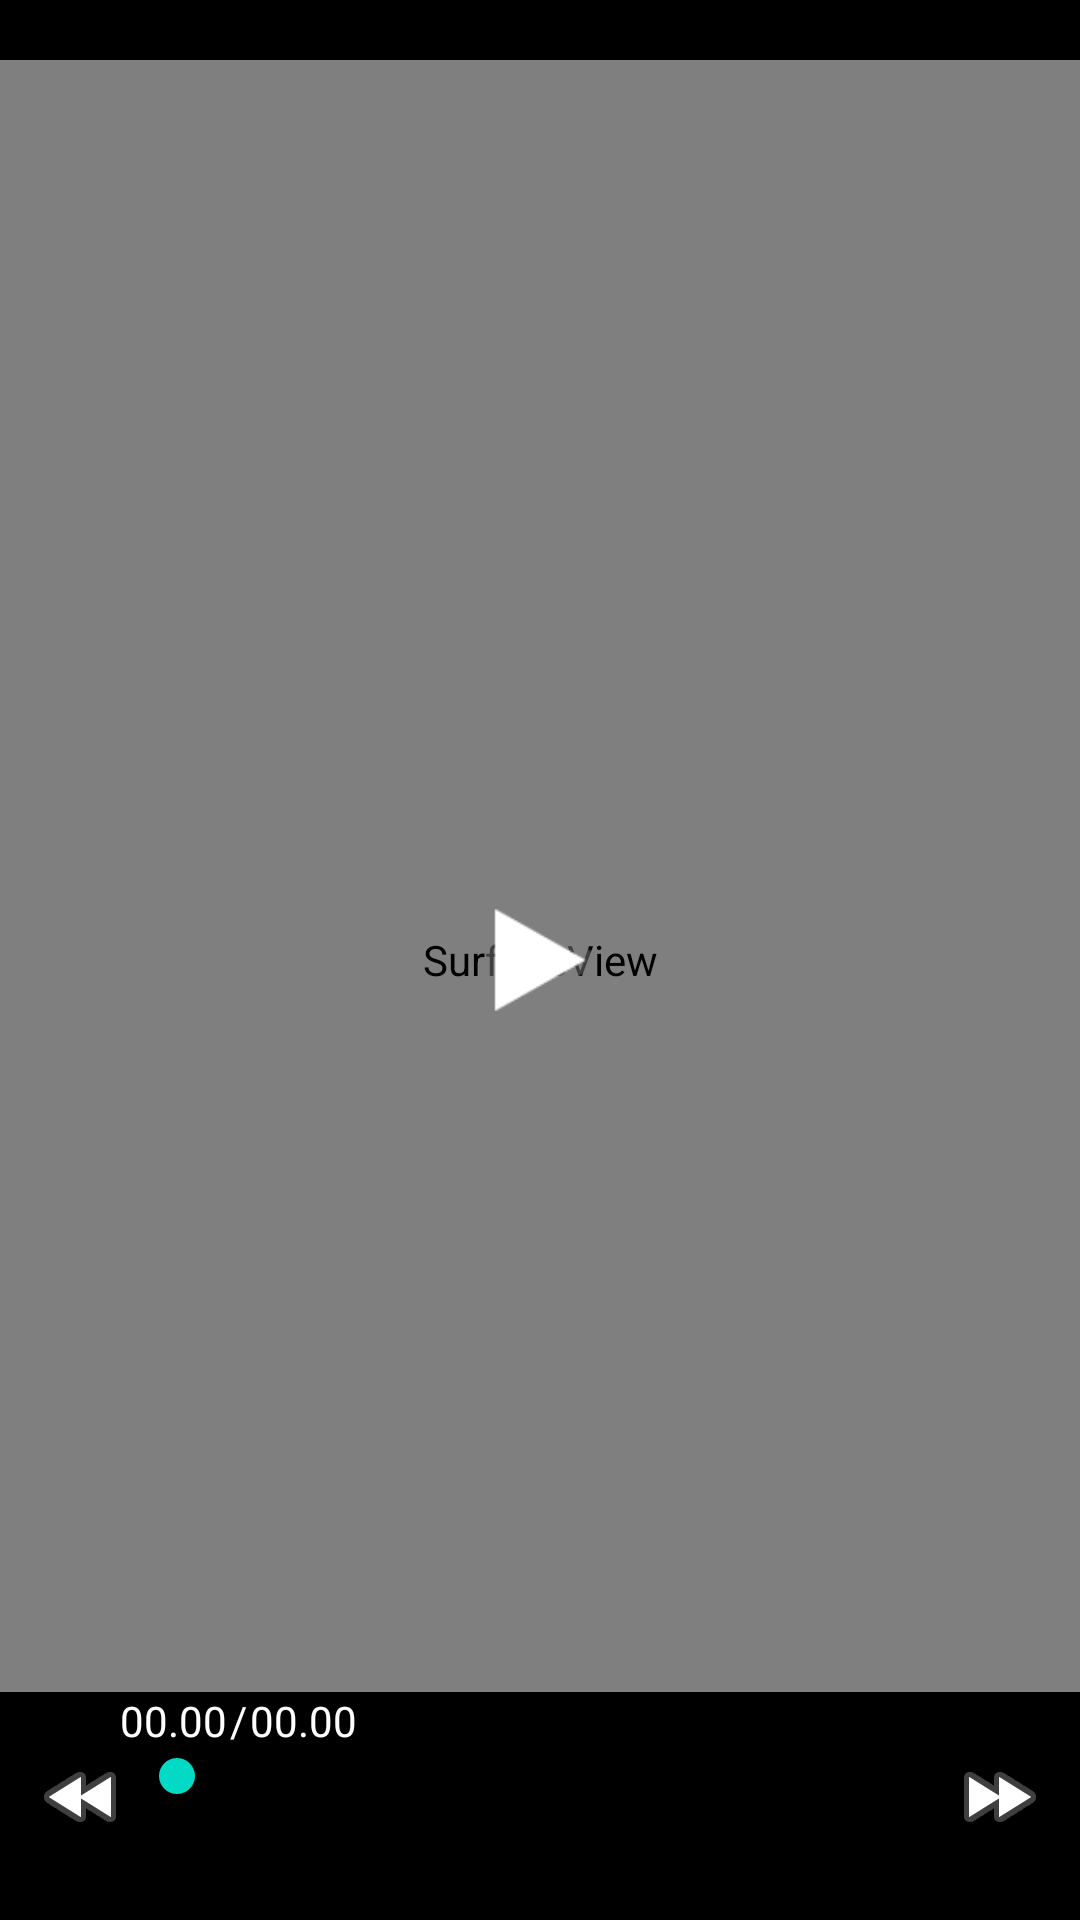

Named icons in this screenshot (1080×1920) and their bounding boxes, box(x1, y1, x2, y2):
play: box(451, 909, 625, 1011)
rew: box(44, 1772, 116, 1822)
